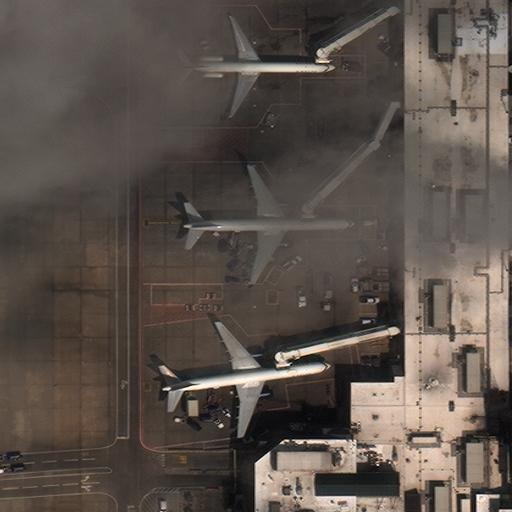Large Civil Transport: (179, 164, 356, 283), (159, 321, 333, 436)
Medium Civil Transport: (179, 17, 337, 115)
